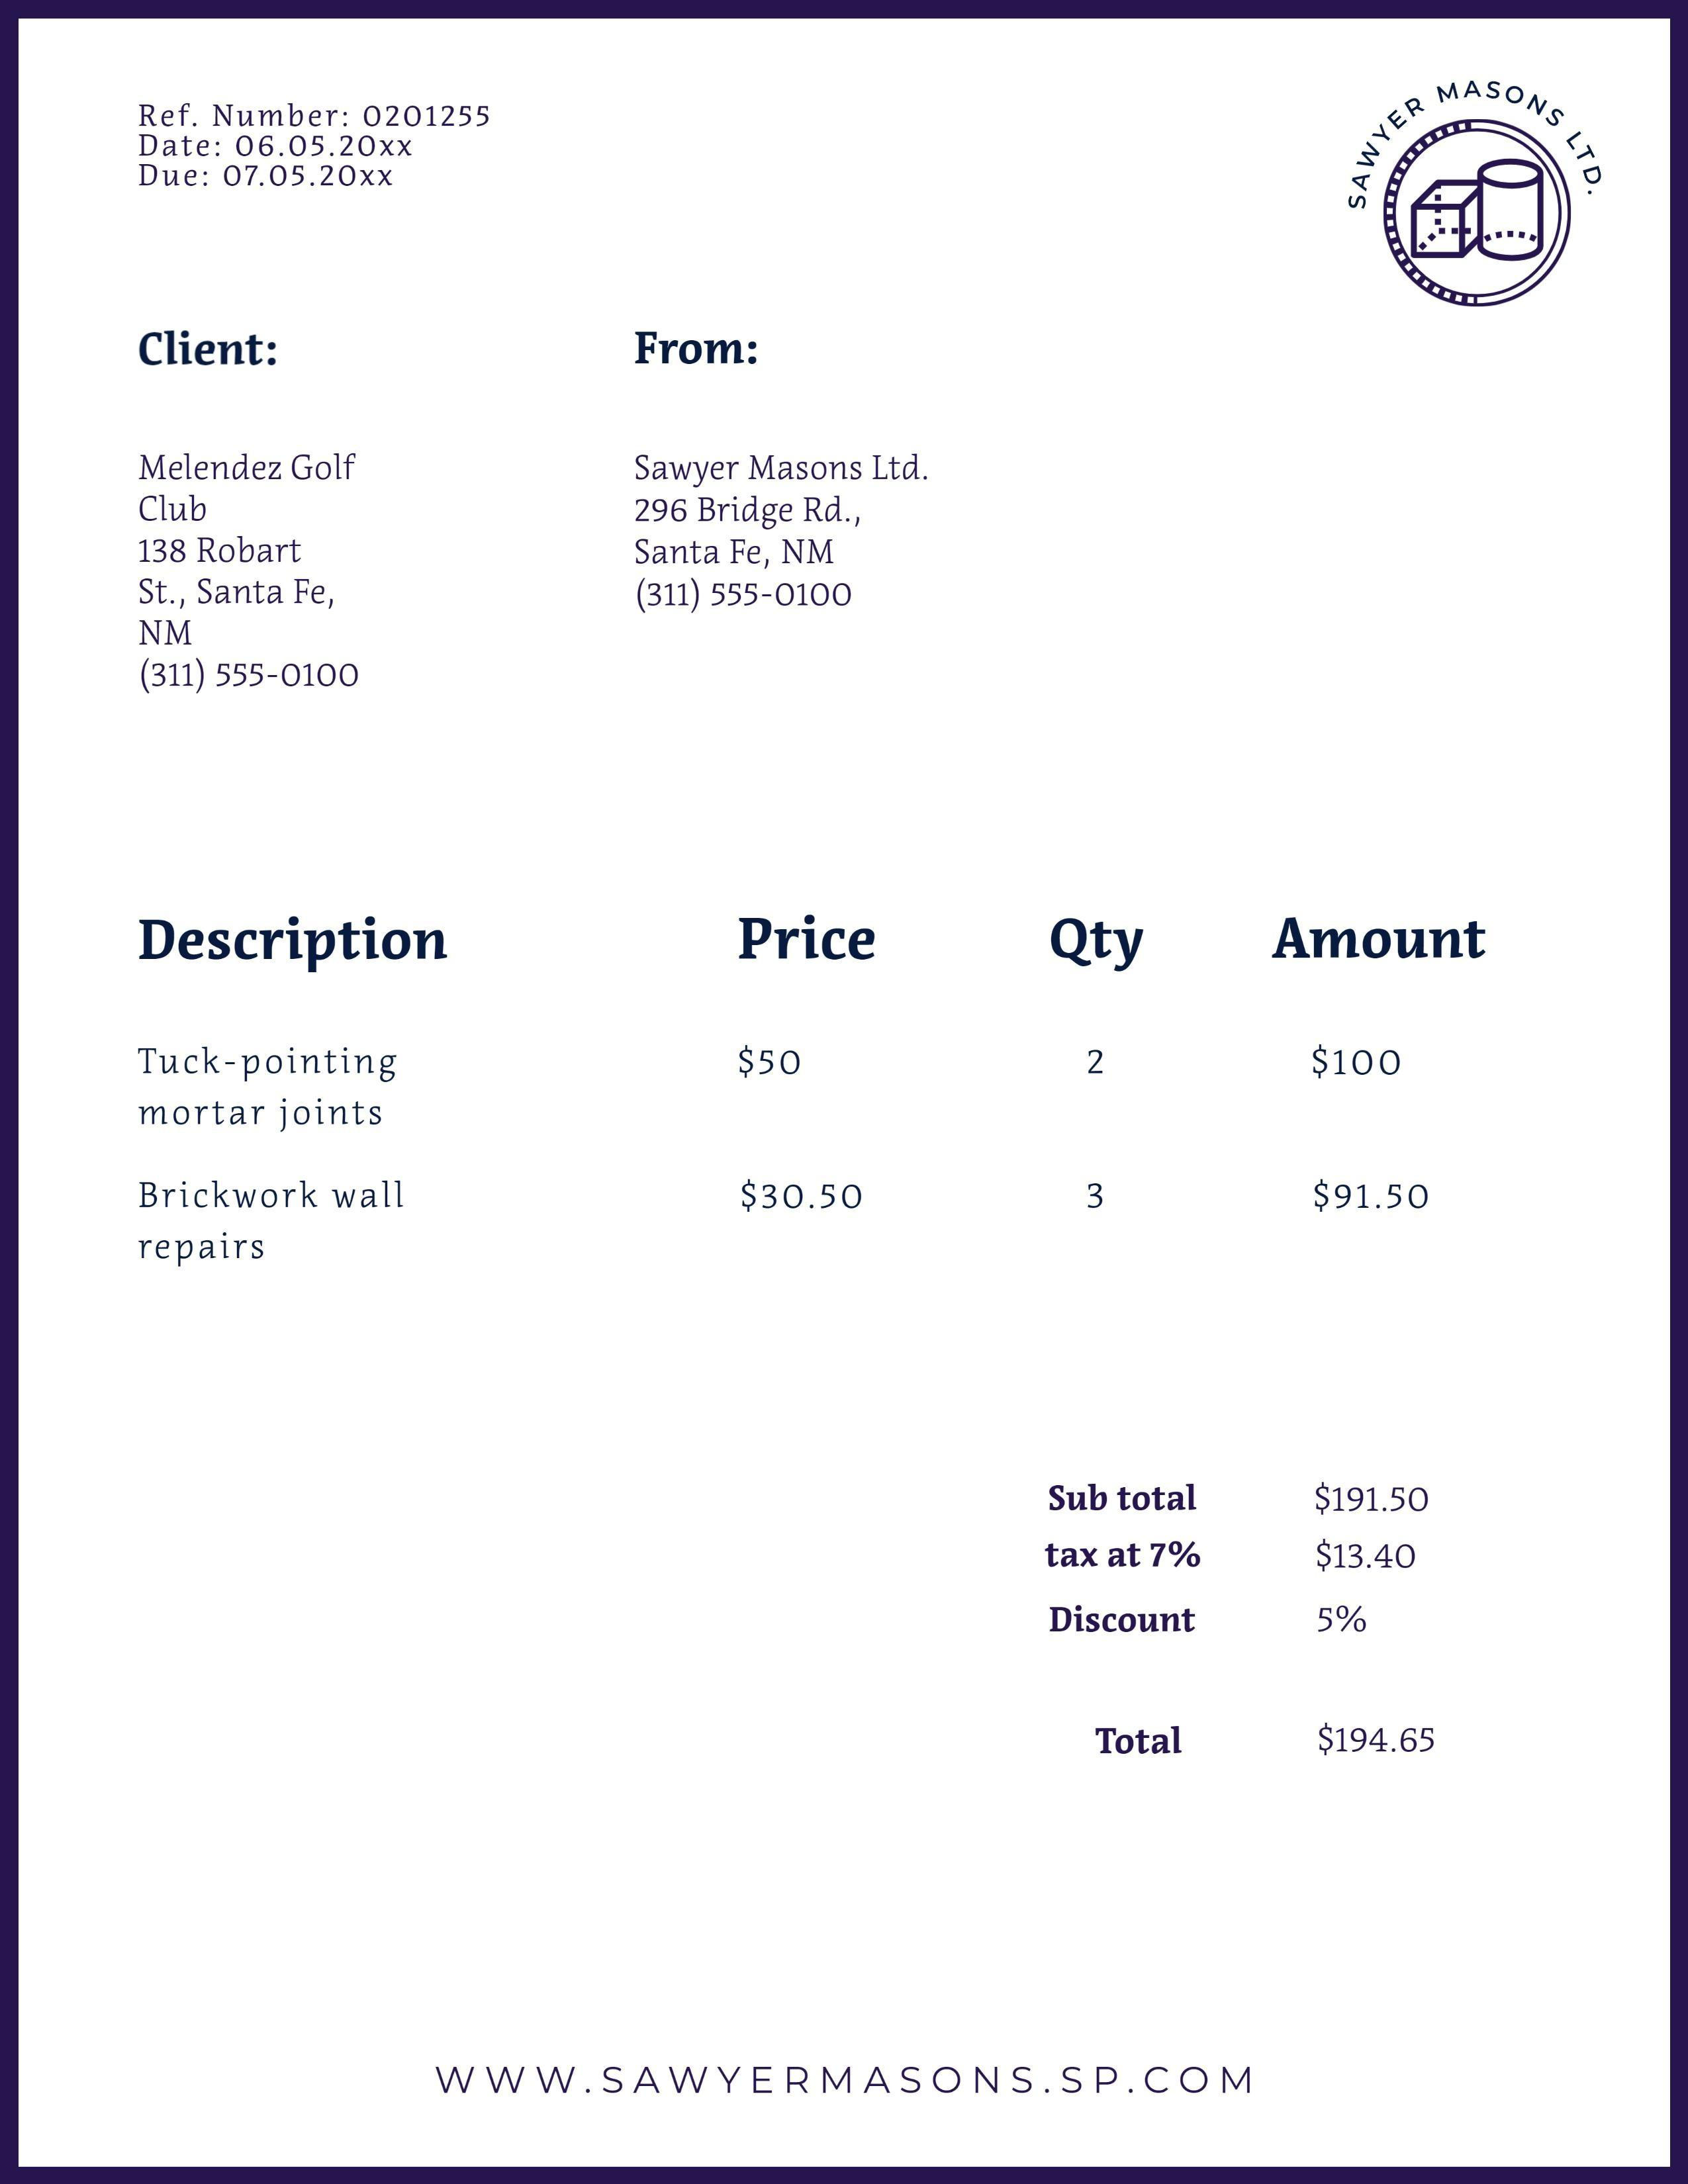ROI: (126, 907, 1552, 1271), (1049, 1469, 1446, 1777), (139, 334, 430, 695), (626, 321, 930, 629), (129, 93, 500, 205)
